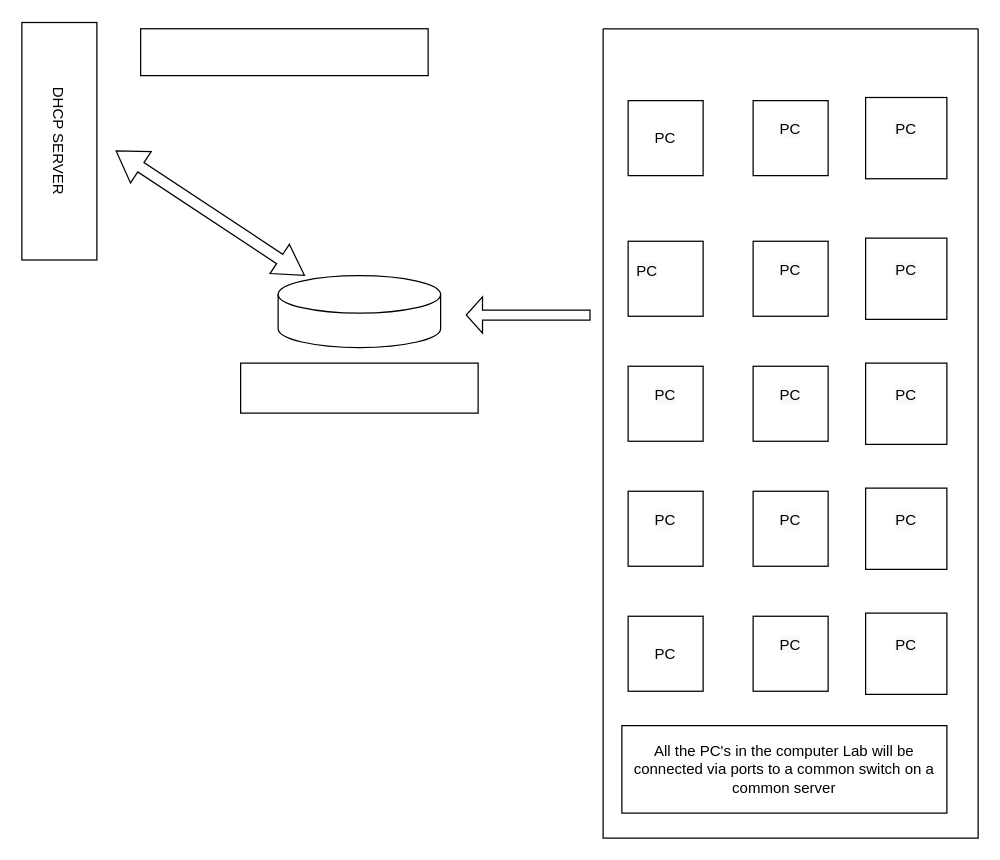
Image size: 1000x860. Some labels were removed from this diagram. The box of each missing label's shape, as (x1, y1, x2, y2) in pixels:
A COMMON SWITCH: (239, 362, 478, 413)
DHCP SERVER( DYNAMIC HOST CONTROL PROTOCOL): (139, 28, 428, 76)
SWITCH: (277, 274, 441, 348)
